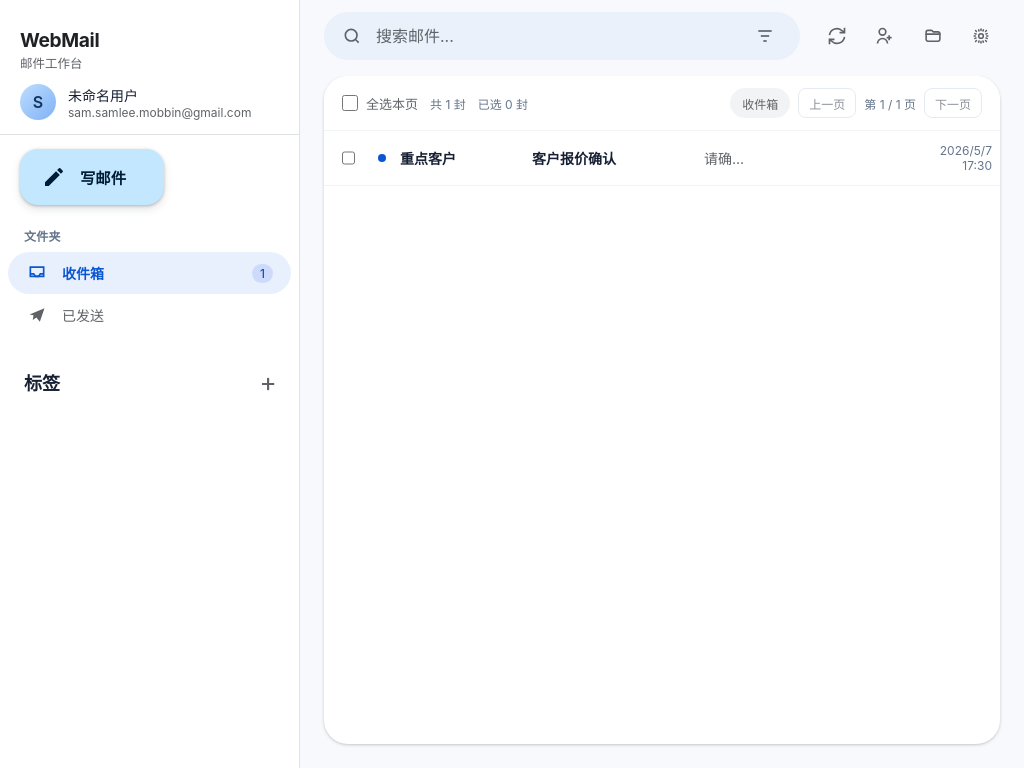
App 邮件工作台 › 搜索表单会提交发件人、日期范围和有附件筛选
Expected: the text "客户报价确认" is shown, x1=532 y1=150 x2=616 y2=167
Type "客户" into the search field with placeholder "搜索邮件..." at (560, 36), box x1=376 y1=26 x2=744 y2=46
Click the button named "展开筛选" at (765, 36), box x1=746 y1=17 x2=784 y2=55
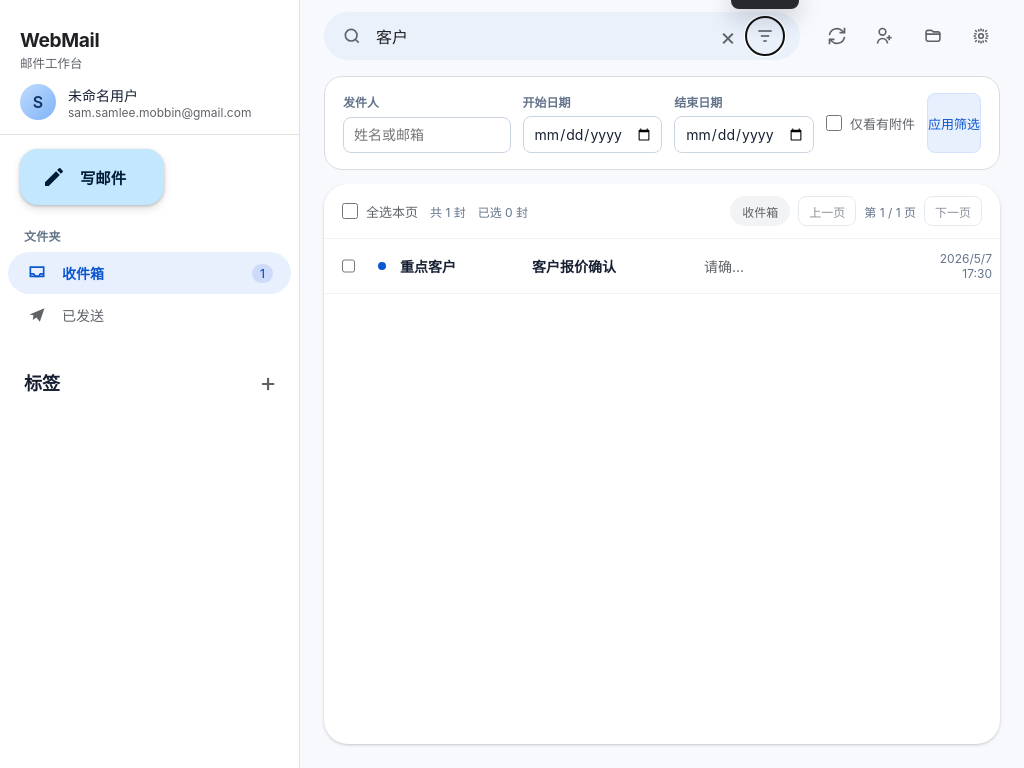
Type "Alice" into the field labelled "发件人" at (427, 135), box x1=343 y1=116 x2=511 y2=153
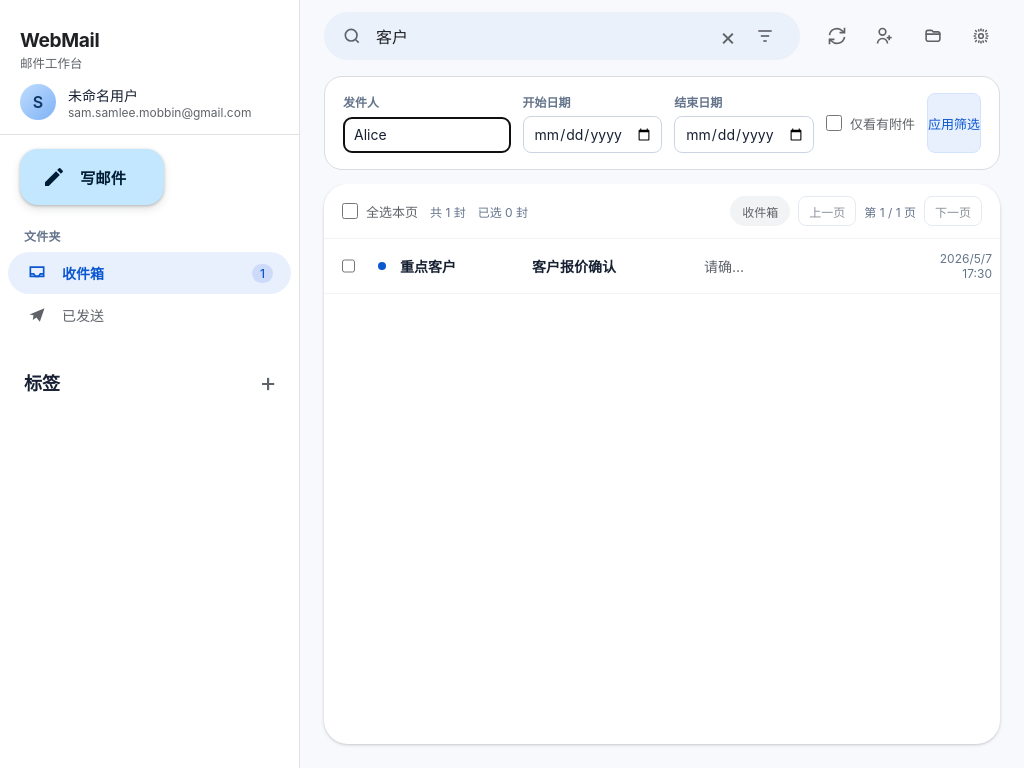
Type "2026-05-07" into the date field labelled "开始日期" at (592, 134), box x1=523 y1=116 x2=662 y2=153
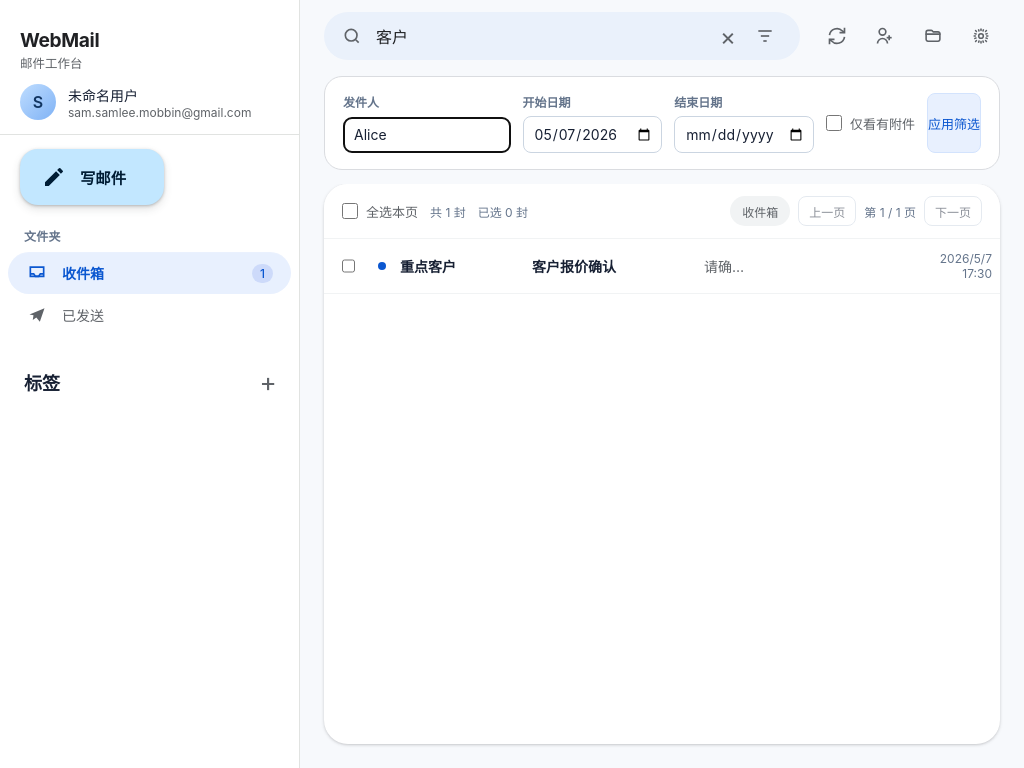
Type "2026-05-08" into the date field labelled "结束日期" at (744, 134), box x1=674 y1=116 x2=814 y2=153
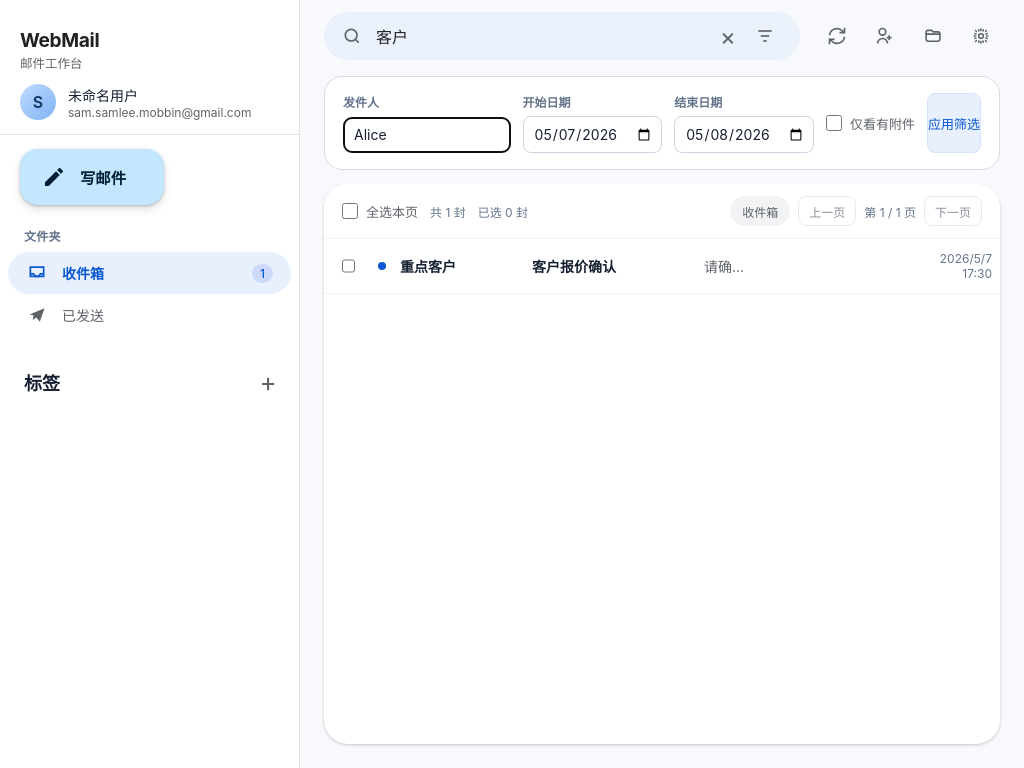
Click the checkbox labelled "仅看有附件" at (834, 123), box x1=826 y1=115 x2=842 y2=131
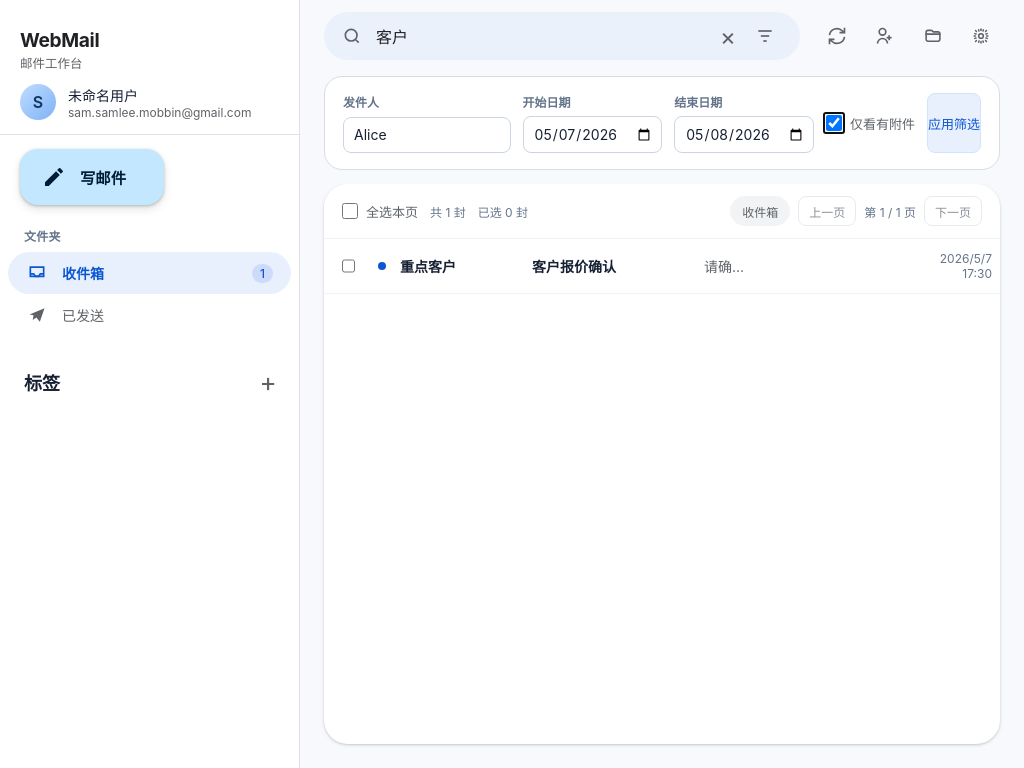
Click the button "应用筛选" at (954, 123), box x1=927 y1=93 x2=981 y2=153
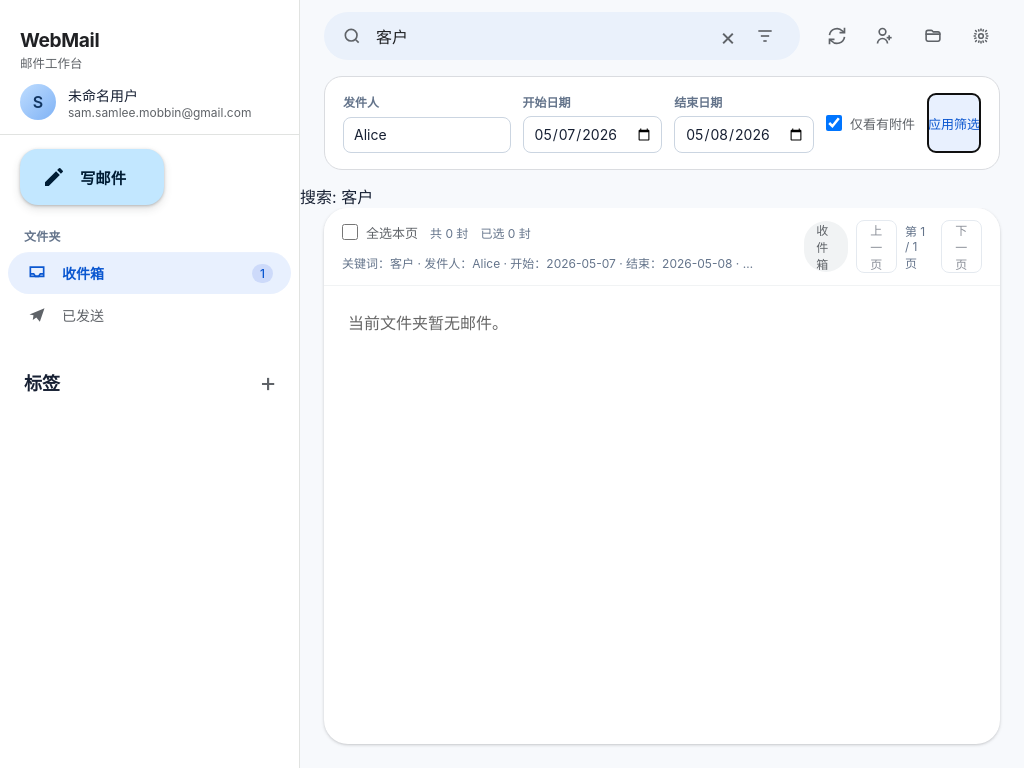
Expected: the text "关键词：客户 · 发件人：Alice · 开始：2026-05-07 · 结束：2026-05-08 · 有附件" is shown, x1=342 y1=254 x2=762 y2=270
